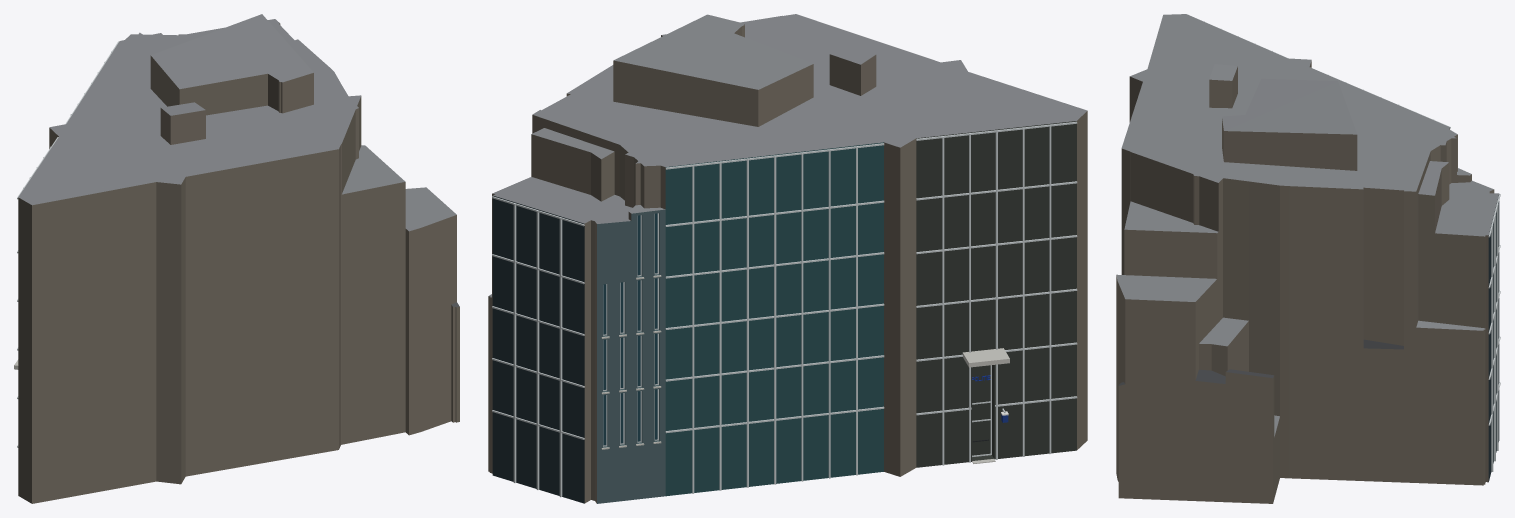
The model's file is recipe-large-politie-nieuwezijds-voorburgwal.glb.
3 views of the same model, side by side, from view 1: azimuth 30°, elevation 25°; view 2: azimuth 150°, elevation 25°; view 3: azimuth 270°, elevation 25° (orthographic). The views are drawn at different scales.
Visible parts, largest first — view 1: politie-nieuwezijds-voorburgwal; view 2: politie-nieuwezijds-voorburgwal; view 3: politie-nieuwezijds-voorburgwal.
Part boxes in pixels (x1,y1,x2,y2): politie-nieuwezijds-voorburgwal: (14,14,459,503); politie-nieuwezijds-voorburgwal: (488,14,1087,503); politie-nieuwezijds-voorburgwal: (1116,14,1500,503).
Bounding box in the file's own units: 32.86 × 25.17 × 26.73.
